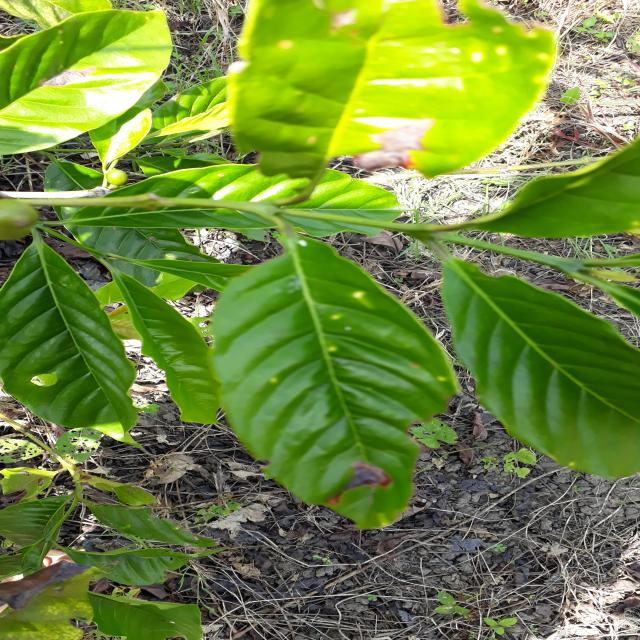Enfermedad-Roya: (210, 232, 459, 532)
